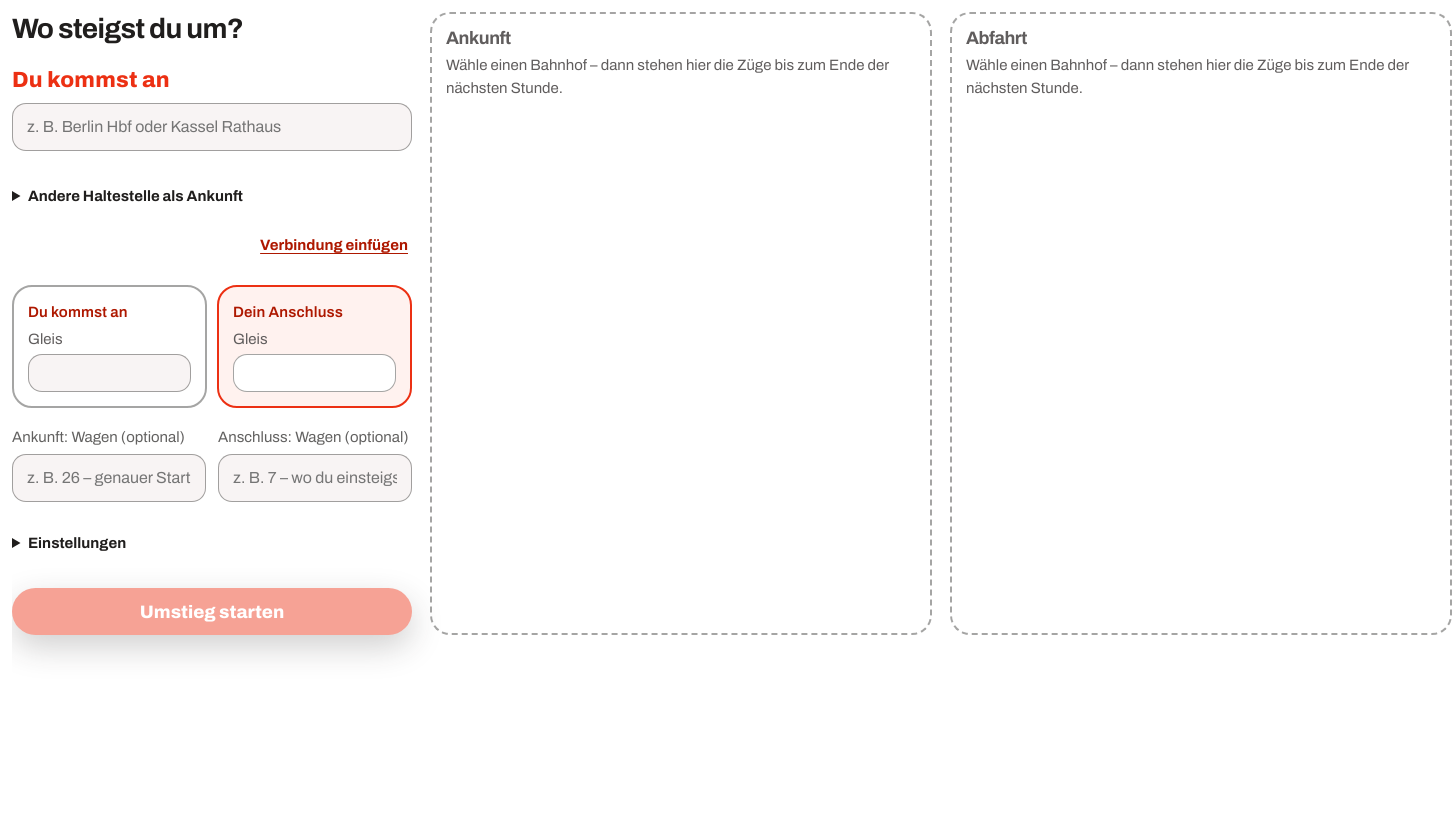
Test: Eingabe: Bahnhofssuche › schlaegt Bahnhoefe erst ab zwei Zeichen vor
Type "B" into the field named "Ankunft: Bahnhof oder Haltestelle" at [212, 127], box [12,103,412,151]
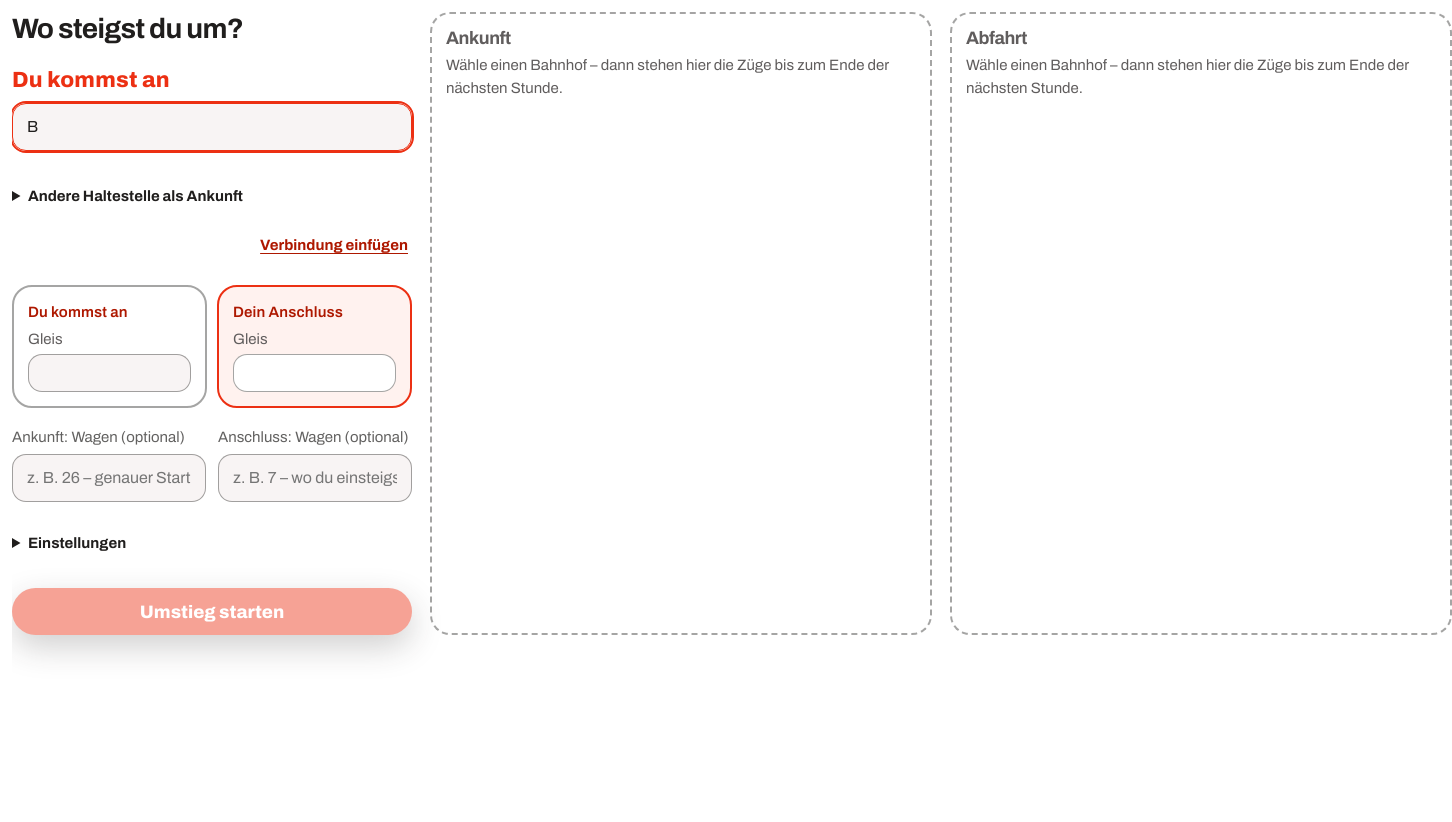
Type "er" into the field named "Ankunft: Bahnhof oder Haltestelle" at [212, 127], box [12,103,412,151]
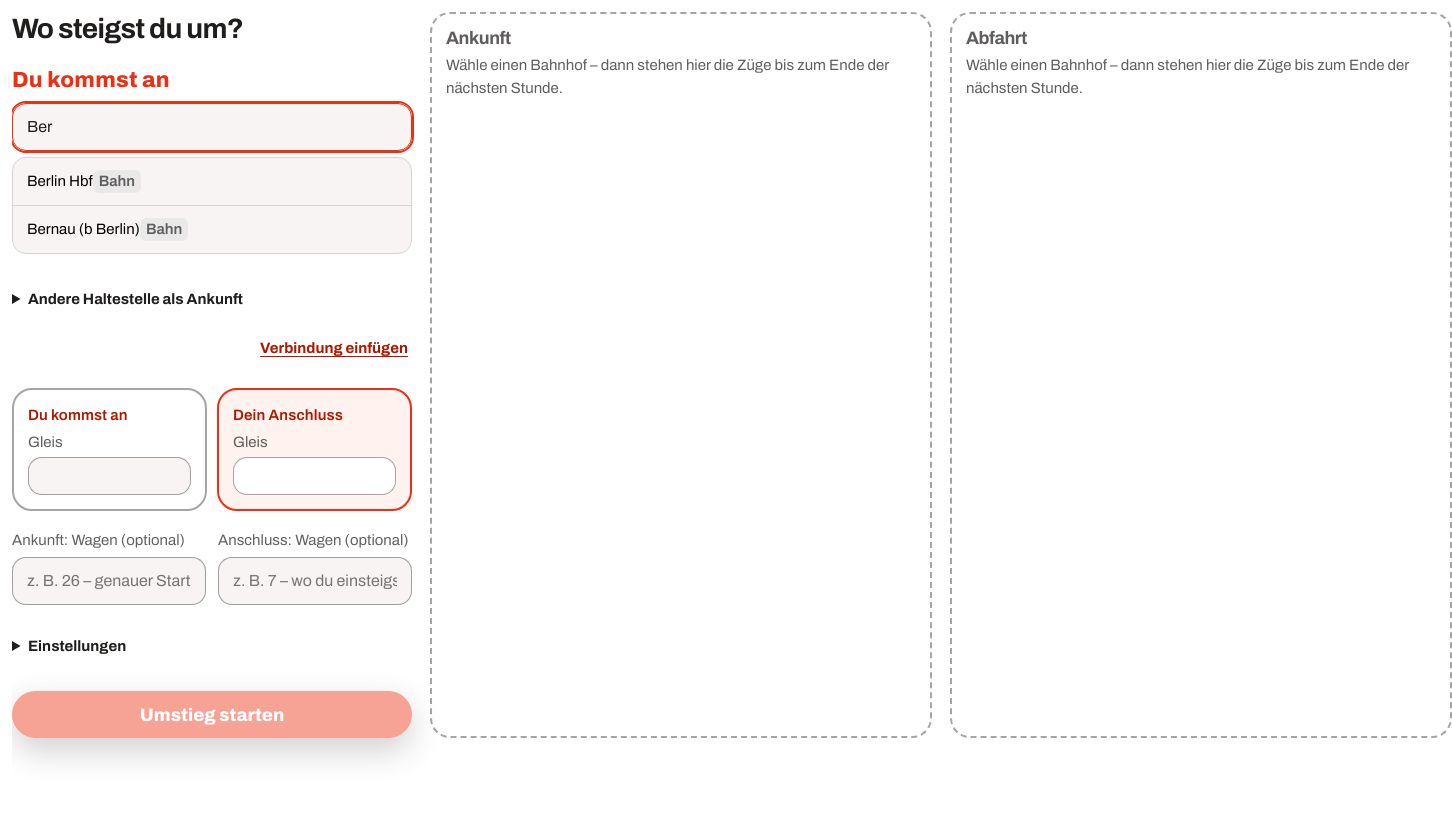
Check: the button "Berlin Hbf Bahn" is shown, box [13,158,411,206]
